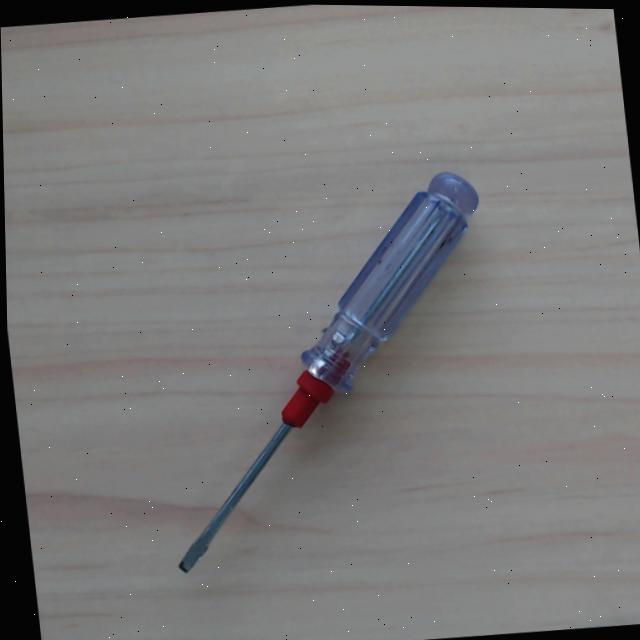Obeng-Kecil: (156, 161, 490, 589)
